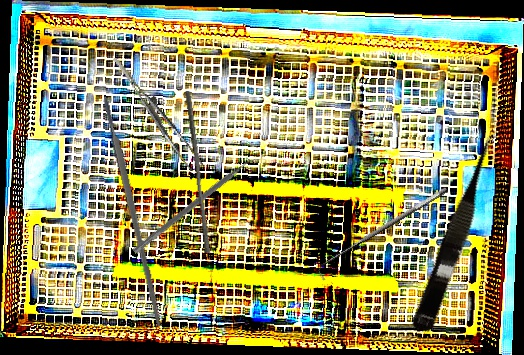Hook Surgical: (312, 185, 455, 281)
Micro Scissor: (409, 128, 507, 338)
Pusher: (178, 90, 217, 254)
Scalpel Handle: (101, 96, 165, 328)
Spatula Surgical: (132, 151, 261, 260)
Tissue Forceps: (112, 45, 204, 179)
